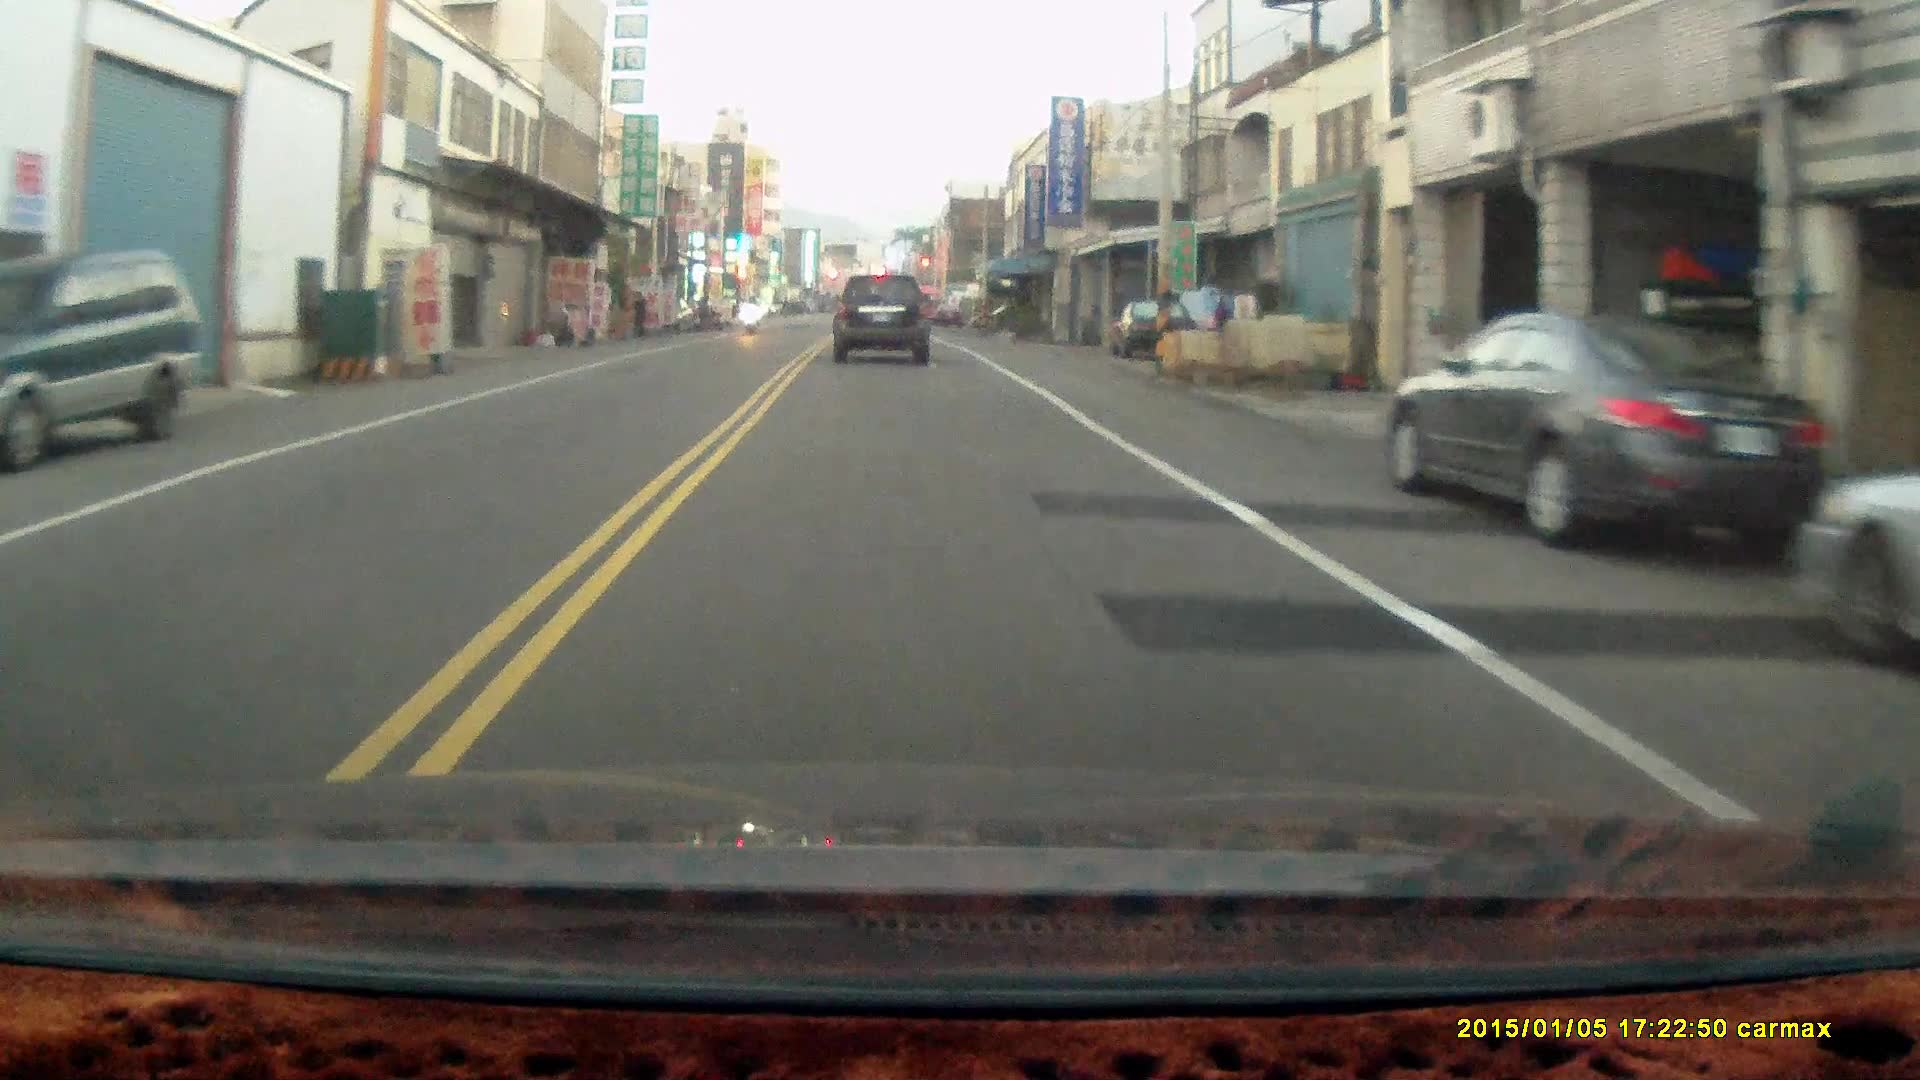pedestrian: (629, 290, 649, 341)
vehicle: (1384, 311, 1828, 566), (1, 250, 204, 463), (1791, 418, 1920, 677), (832, 274, 932, 368), (1110, 297, 1200, 357)
